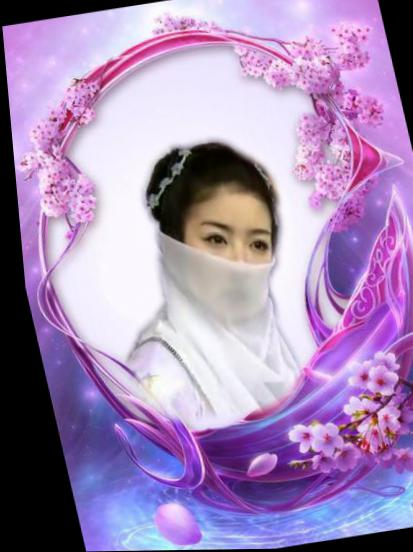WRONG: (164, 206, 287, 323)
